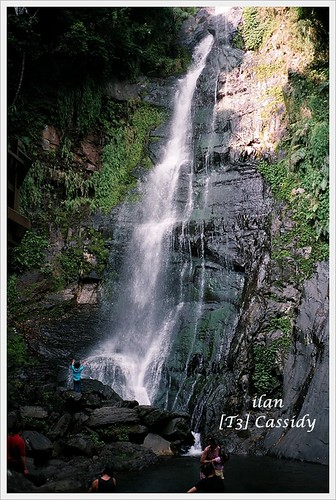wufengciWaterfall: (88, 16, 235, 403)
